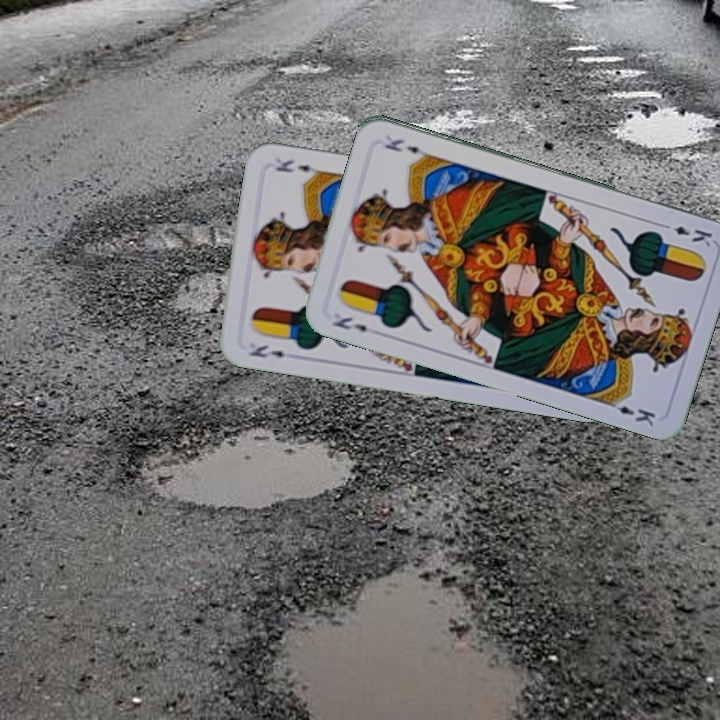EK: (657, 219, 715, 250), (329, 313, 370, 335), (246, 340, 287, 361)
